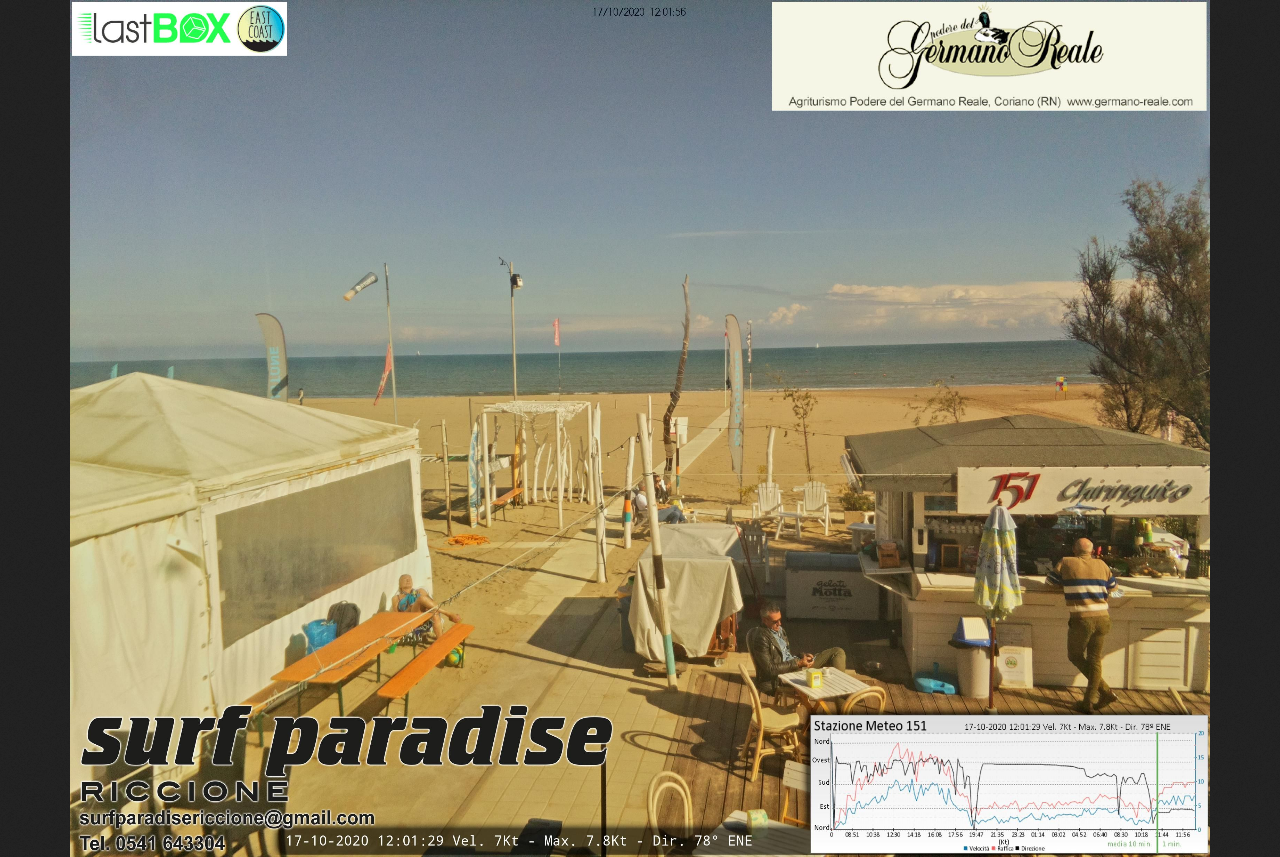maybe: (368, 341, 393, 407)
